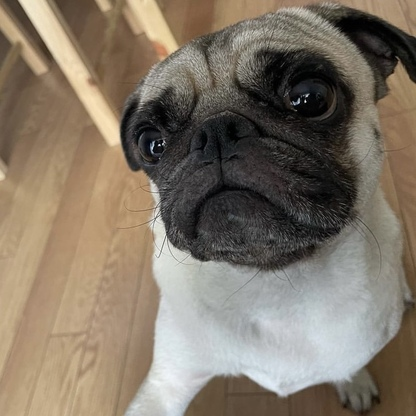akita: (103, 1, 416, 416)
